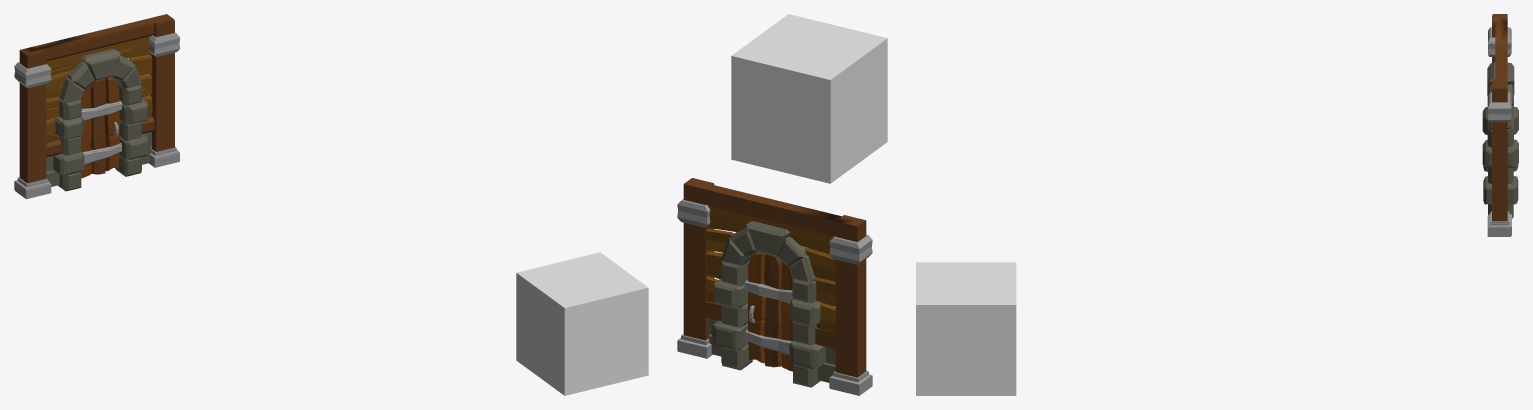
The picture shows the model from 3 angles, left to right: view 1: azimuth 30°, elevation 25°; view 2: azimuth 150°, elevation 25°; view 3: azimuth 270°, elevation 25°; orthographic projection. The views are drawn at different scales.
Parts seen in each view (by area): view 1: Cube, WallDoorConstruction., WallDoorFrame, WallDoorBackPanels, WallDoorConstruction..001, WallDoorFrame.001, WallDoorMetalConstruction, WallDoorDoorPanels2, WallDoorDoorPanels, WallDoorMetalConstruction.001, WallDoorDoorMetal; view 2: Cube, WallDoorConstruction..001, WallDoorFrame.001, WallDoorBackPanels.001, WallDoorMetalConstruction.001, WallDoorDoorPanels2.001, WallDoorDoorPanels.001, WallDoorDoorMetal.001, WallDoorFrame, WallDoorBricks.001, WallDoorMetalConstruction, WallDoorConstruction. (+1 smaller); view 3: Cube, WallDoorConstruction., WallDoorFrame.001, WallDoorFrame, WallDoorConstruction..001, WallDoorMetalConstruction, WallDoorMetalConstruction.001.
Boxes of the visible parts, bbox=[...] form: Cube: bbox=[516, 252, 648, 395]; WallDoorConstruction.: bbox=[27, 20, 174, 183]; WallDoorFrame: bbox=[53, 53, 149, 191]; WallDoorBackPanels: bbox=[46, 36, 152, 142]; WallDoorConstruction..001: bbox=[19, 14, 174, 182]; WallDoorFrame.001: bbox=[53, 48, 149, 187]; WallDoorMetalConstruction: bbox=[15, 34, 180, 199]; WallDoorDoorPanels2: bbox=[81, 78, 119, 178]; WallDoorDoorPanels: bbox=[91, 78, 105, 174]; WallDoorMetalConstruction.001: bbox=[14, 32, 179, 197]; WallDoorDoorMetal: bbox=[81, 103, 122, 164]; Cube: bbox=[731, 14, 887, 183]; WallDoorConstruction..001: bbox=[683, 178, 866, 377]; WallDoorFrame.001: bbox=[712, 221, 824, 386]; WallDoorBackPanels.001: bbox=[706, 205, 835, 332]; WallDoorMetalConstruction.001: bbox=[677, 199, 872, 394]; WallDoorDoorPanels2.001: bbox=[747, 252, 792, 370]; WallDoorDoorPanels.001: bbox=[764, 254, 781, 365]; WallDoorDoorMetal.001: bbox=[744, 280, 792, 354]; WallDoorFrame: bbox=[712, 228, 824, 387]; WallDoorBricks.001: bbox=[709, 318, 835, 381]; WallDoorMetalConstruction: bbox=[677, 217, 872, 395]; WallDoorConstruction.: bbox=[706, 184, 835, 348]; Cube: bbox=[916, 262, 1016, 395]; WallDoorConstruction.: bbox=[1492, 15, 1506, 221]; WallDoorFrame.001: bbox=[1483, 62, 1518, 218]; WallDoorFrame: bbox=[1482, 67, 1516, 215]; WallDoorConstruction..001: bbox=[1492, 14, 1507, 221]; WallDoorMetalConstruction: bbox=[1487, 29, 1510, 236]; WallDoorMetalConstruction.001: bbox=[1488, 27, 1511, 235].
Size of the model in its own units: 828 by 457 by 1200.
